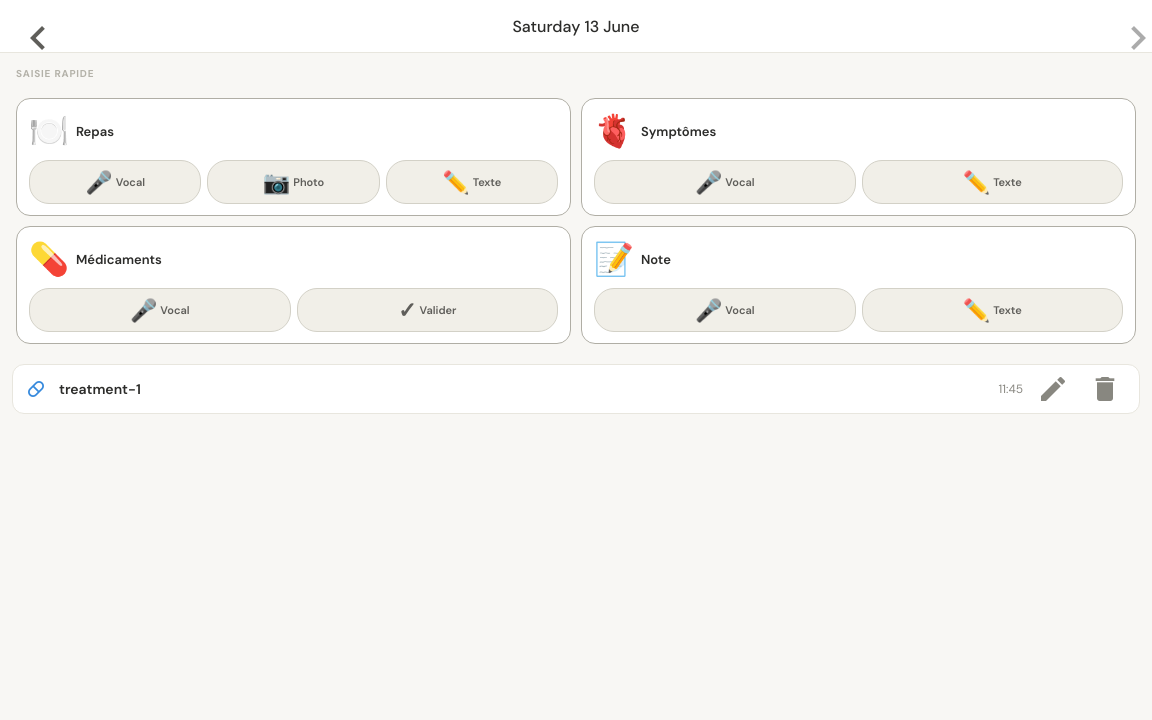
Test: JournalHomeComponent › boutons d'édition › le clic sur delete-intake-btn supprime la prise et la retire de la liste
Step 1. Click the button with test id "delete-intake-btn" → {"x": 1105, "y": 389}, box [1083, 367, 1127, 411]
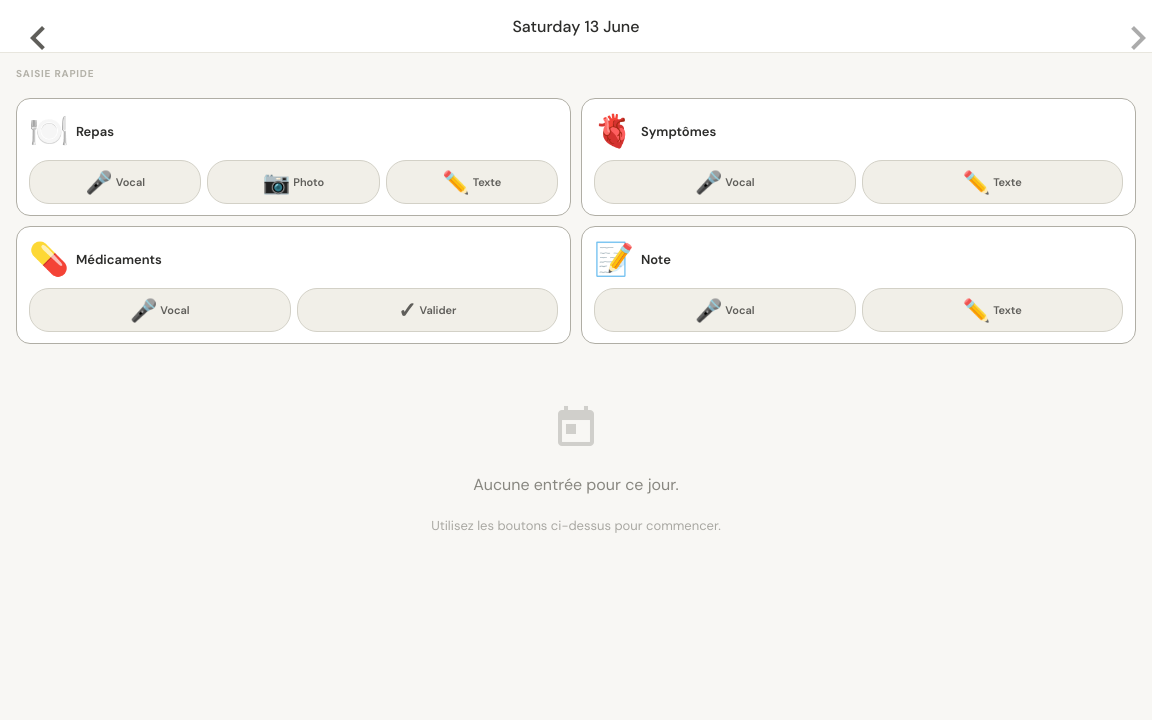
Check: the element with test id "intake-entry" is gone
